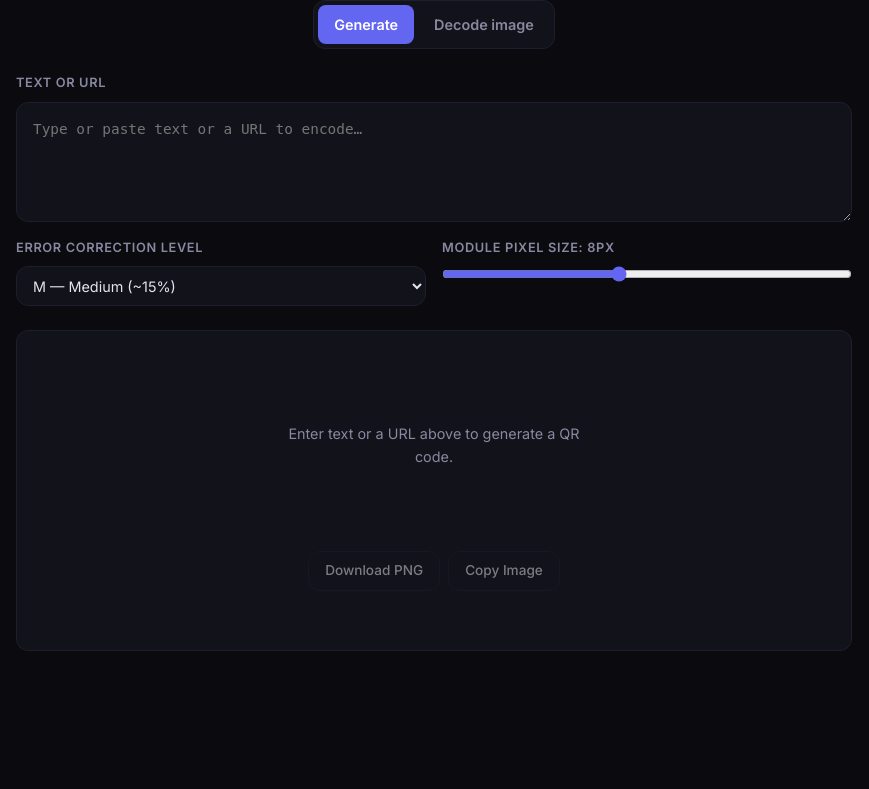
QrCodeTool real-time regeneration › regenerates and draws the QR code as the user types
Type "https://example.com" into the text box named "text or url to encode" at [434, 162], box x1=16 y1=102 x2=852 y2=222
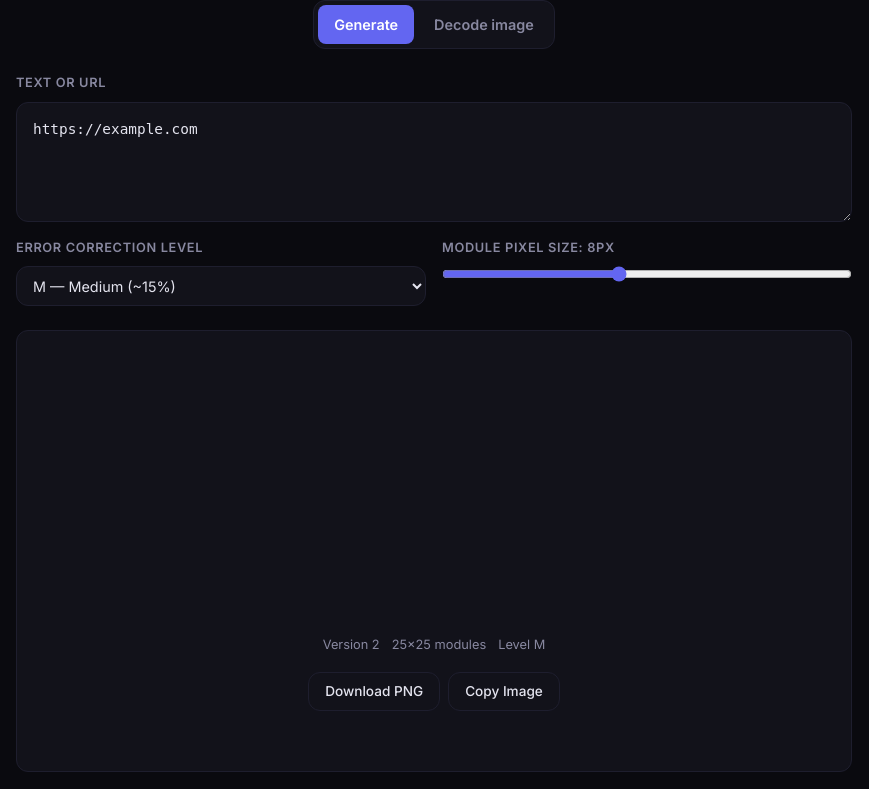
Check: the text "Enter text or a URL" is gone
Check: the text "Version 2" is shown, box x1=323 y1=635 x2=380 y2=656
